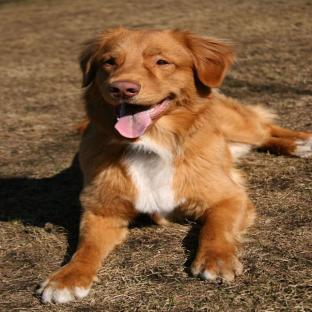Animal: (38, 27, 312, 303)
